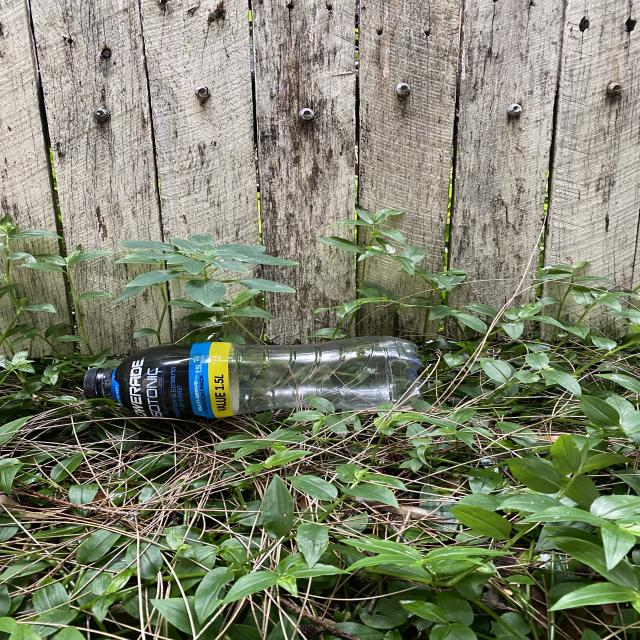bottle: (89, 334, 427, 426)
